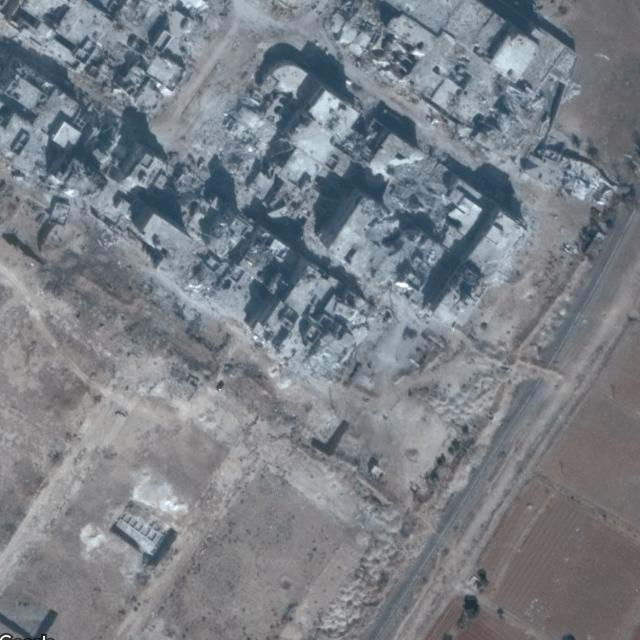damaged_building: (177, 104, 457, 372), (0, 0, 247, 125), (448, 68, 620, 211), (2, 105, 138, 225), (322, 0, 430, 100)
